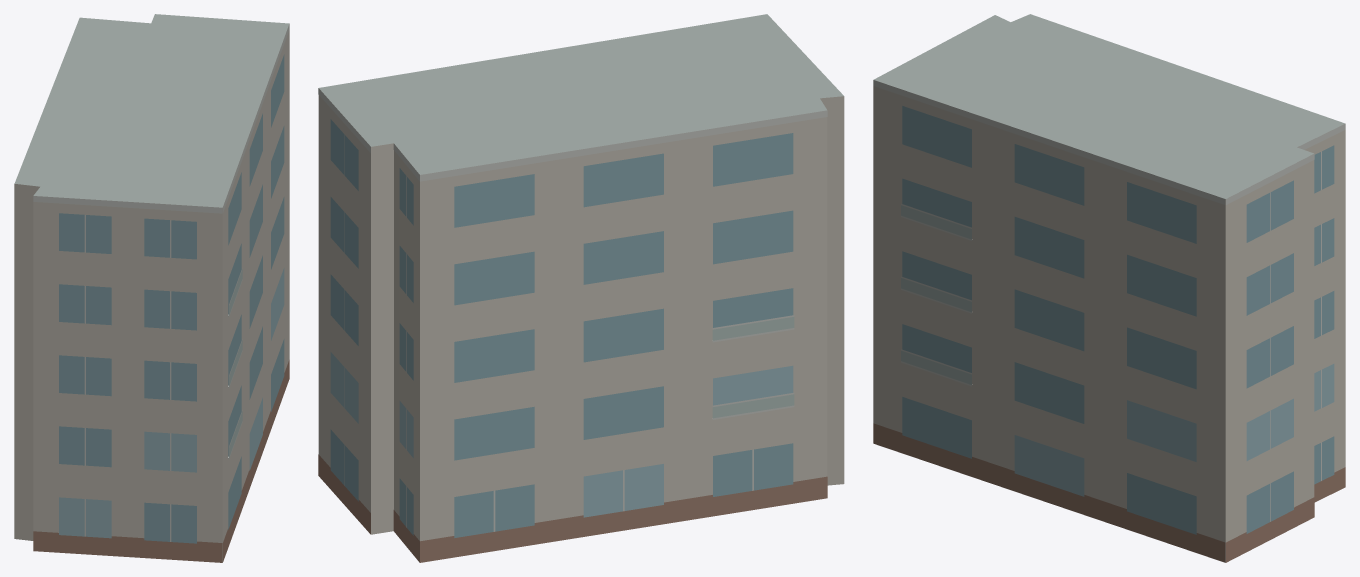
The model's file is survey-upis-32683295.glb.
3 renders of one model, left to right at view 1: azimuth 30°, elevation 25°; view 2: azimuth 150°, elevation 25°; view 3: azimuth 270°, elevation 25°, orthographic. The views are drawn at different scales.
Visible parts, largest first — view 1: survey-upis-32683295.tmp; view 2: survey-upis-32683295.tmp; view 3: survey-upis-32683295.tmp.
Part boxes in pixels (box(x1,y1,x2,y2)): survey-upis-32683295.tmp: box(14, 14, 289, 562); survey-upis-32683295.tmp: box(318, 14, 844, 562); survey-upis-32683295.tmp: box(873, 14, 1345, 562).
Size of the model in its own units: 15.73 by 14.4 by 16.95.
